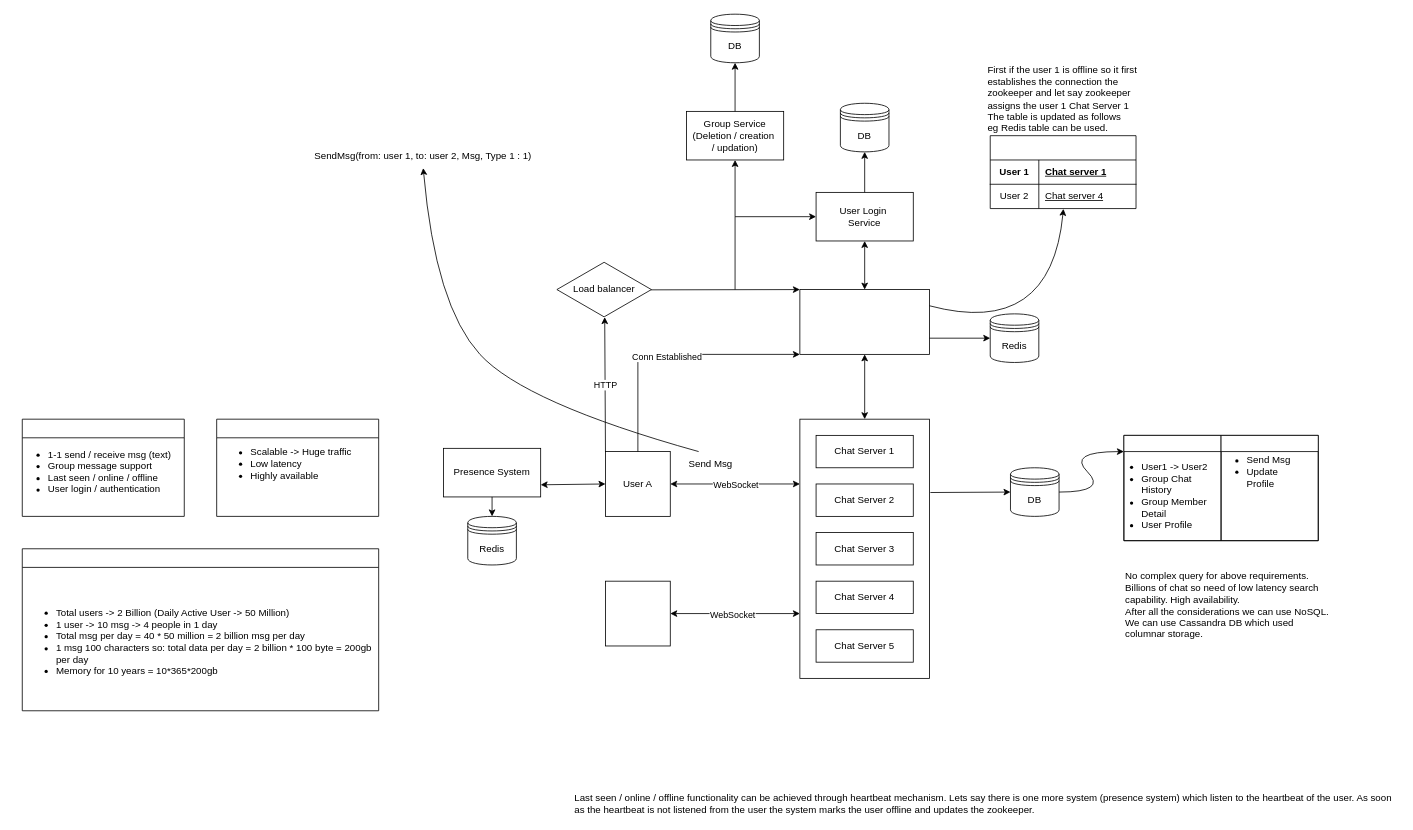
Image size: 1413x830. Some labels were removed from this diagram. The shapes that lost their labels are listed below. From the top down, each one's box as (x1, y1, x2, y2) in pixels, then its label:
(989, 135, 1136, 209): User Mapping Service Table
(799, 289, 929, 354): User Mapping Service (Zookeeper)
(21, 418, 184, 516): Functional
(216, 418, 379, 516): Non-Functional
(1123, 435, 1221, 541): Read
(1220, 435, 1318, 541): Write
(21, 548, 379, 711): Back of Envelope
(605, 580, 670, 646): User B
